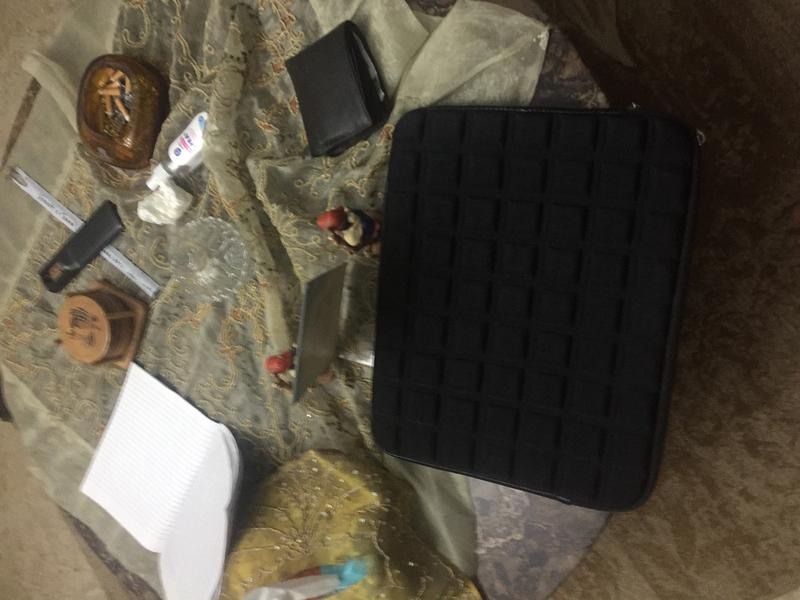cover: (365, 105, 707, 516)
